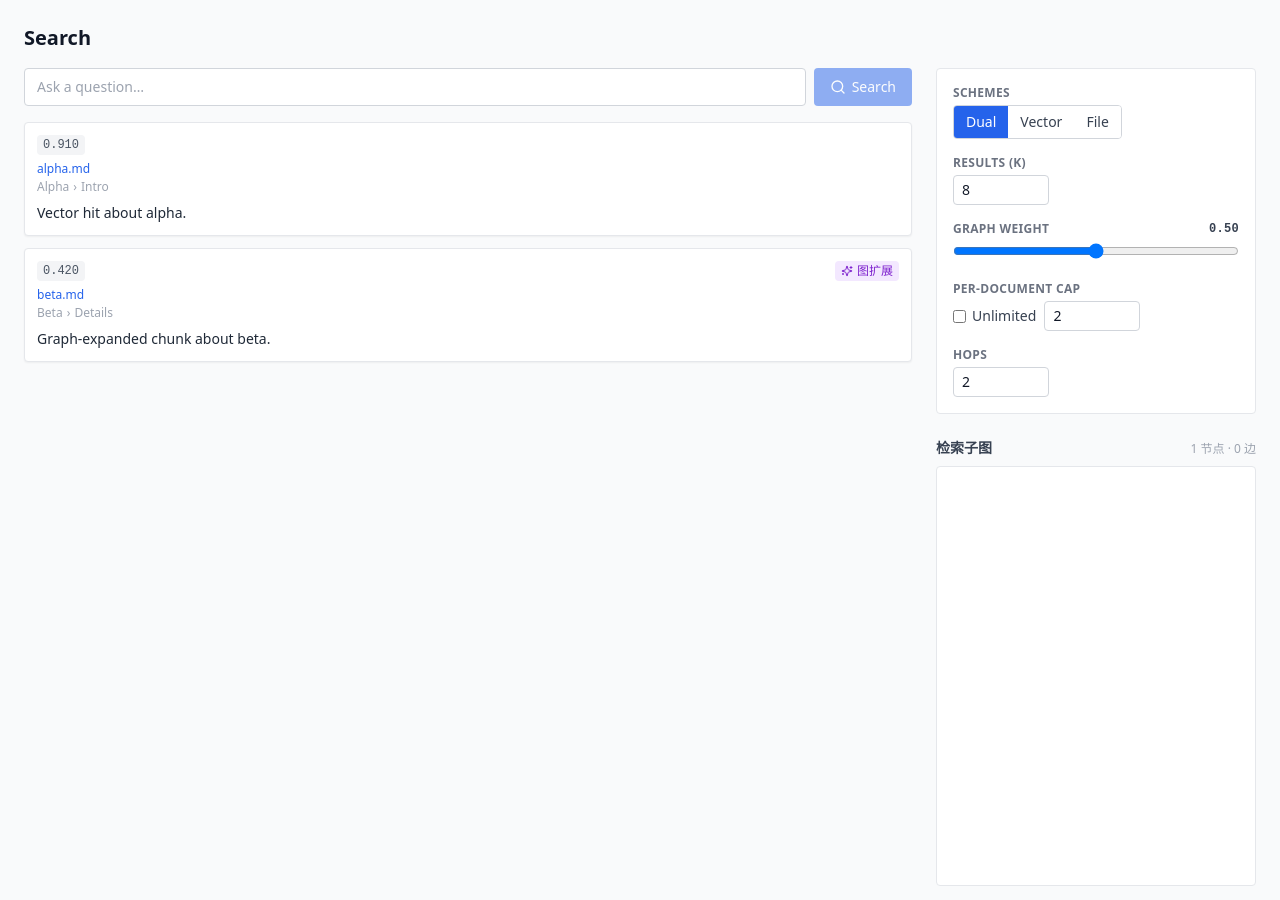
it: SearchPage › shows a File-scheme column with its LLM result
Click the checkbox labelled "file": (1098, 122) [1074,106,1121,138]
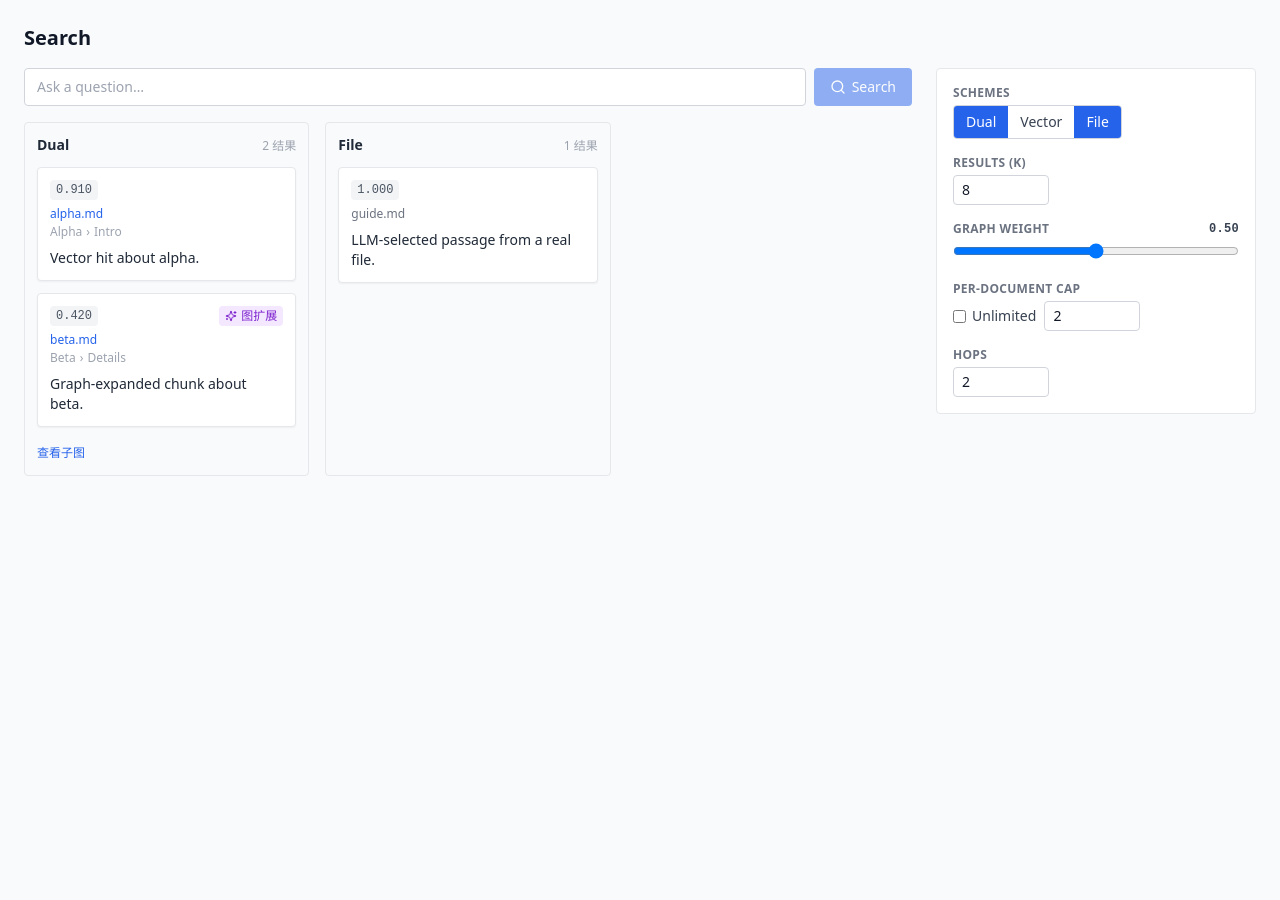
Check: the text "LLM-selected passage from a real file." is shown, box [351,230,585,270]
Check: the text "guide.md" is shown, box [351,205,405,222]
